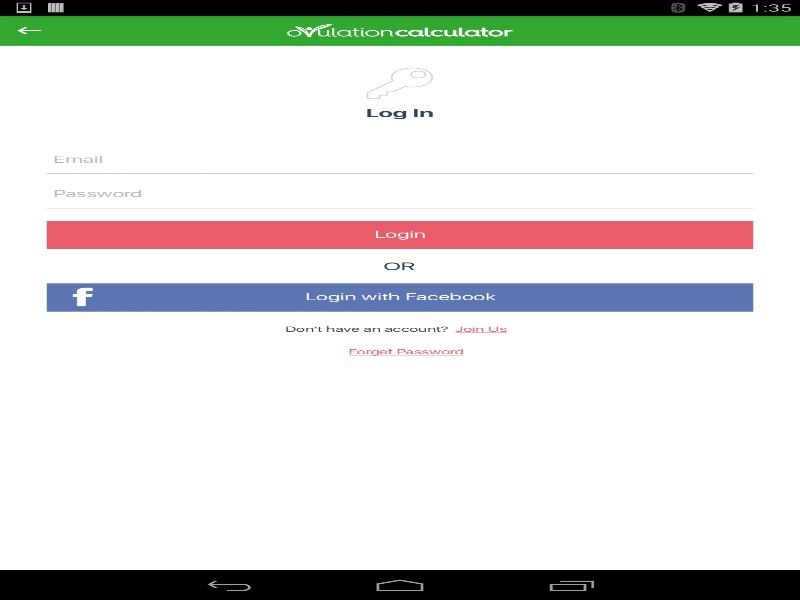Button: (46, 220, 753, 249), (46, 283, 753, 311), (0, 15, 58, 45)
Input: (46, 145, 753, 174), (46, 180, 753, 208)
